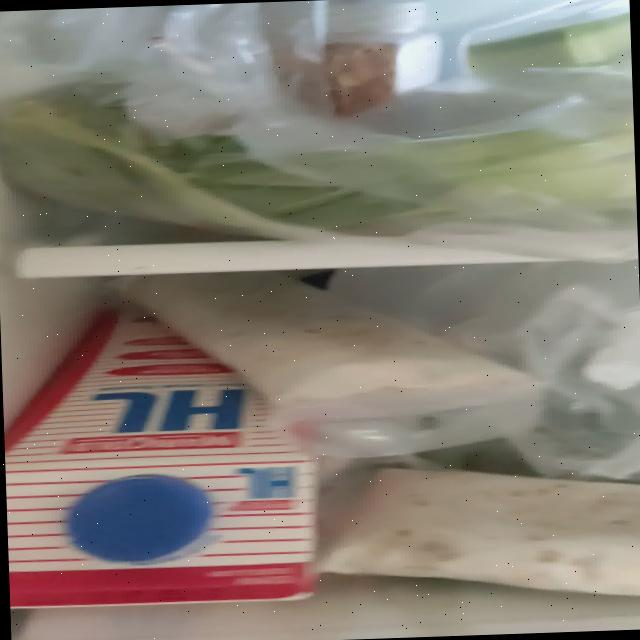tempeh: (107, 260, 542, 410), (309, 458, 640, 608)
